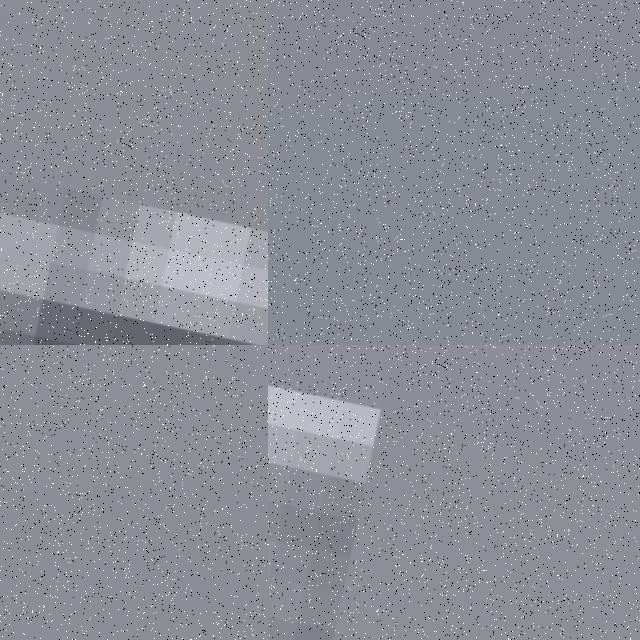drone: (268, 345, 640, 640), (0, 0, 268, 345)
